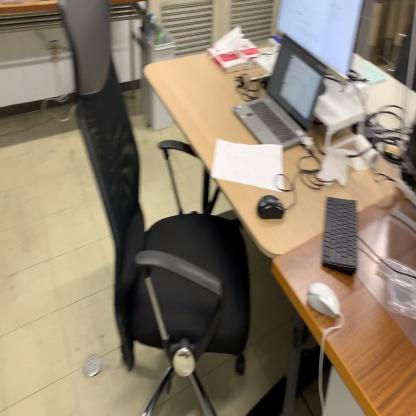chair: (56, 0, 253, 413)
